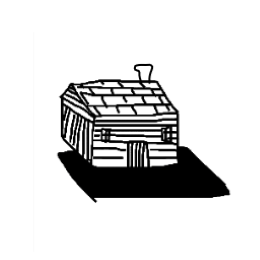chimney: (132, 59, 159, 89)
closed_window: (159, 125, 175, 145), (99, 126, 114, 146)
door: (123, 138, 155, 172)
roof: (57, 76, 181, 122)
shadow: (48, 133, 235, 205)
small_house: (2, 3, 260, 260)
wall: (90, 113, 183, 173)
